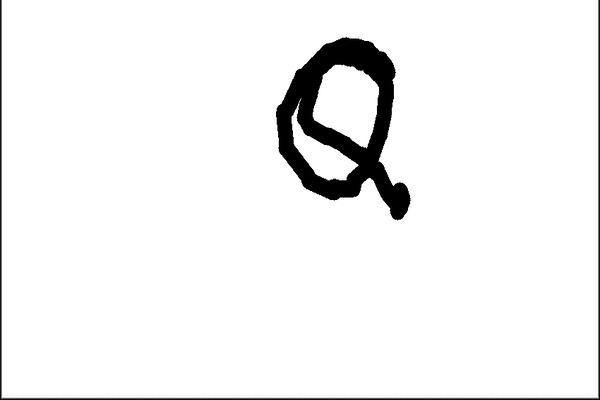Q: (260, 24, 421, 232)
